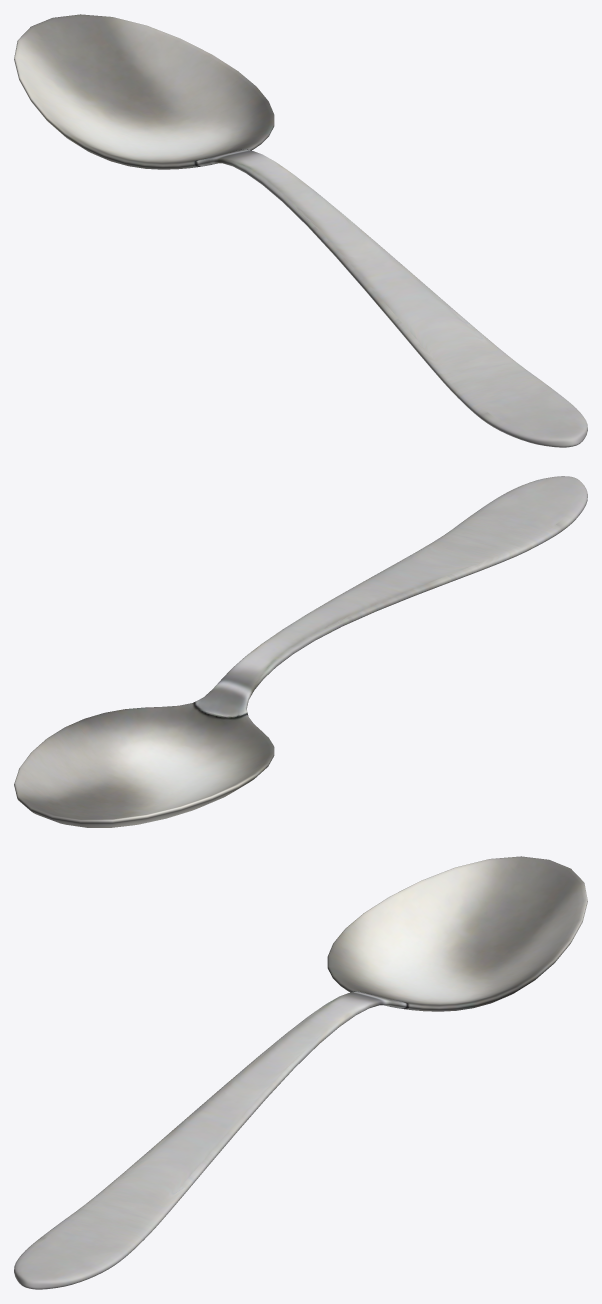
File: Sendok.fbx
3 views of the same model, one above another, from view 1: azimuth 30°, elevation 25°; view 2: azimuth 150°, elevation 25°; view 3: azimuth 330°, elevation 25° (orthographic).
Visible parts, largest first — view 1: Sendok; view 2: Sendok; view 3: Sendok.
Part boxes in pixels (<box>): Sendok: <box>14,14,587,447</box>; Sendok: <box>14,476,587,827</box>; Sendok: <box>14,856,587,1289</box>.
Size of the model in its own units: 1.51 by 0.4304 by 7.07.
Materials: 1 (1 with a texture image).
